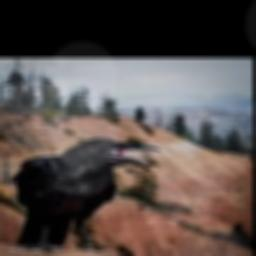Crow: (5, 137, 160, 246)
